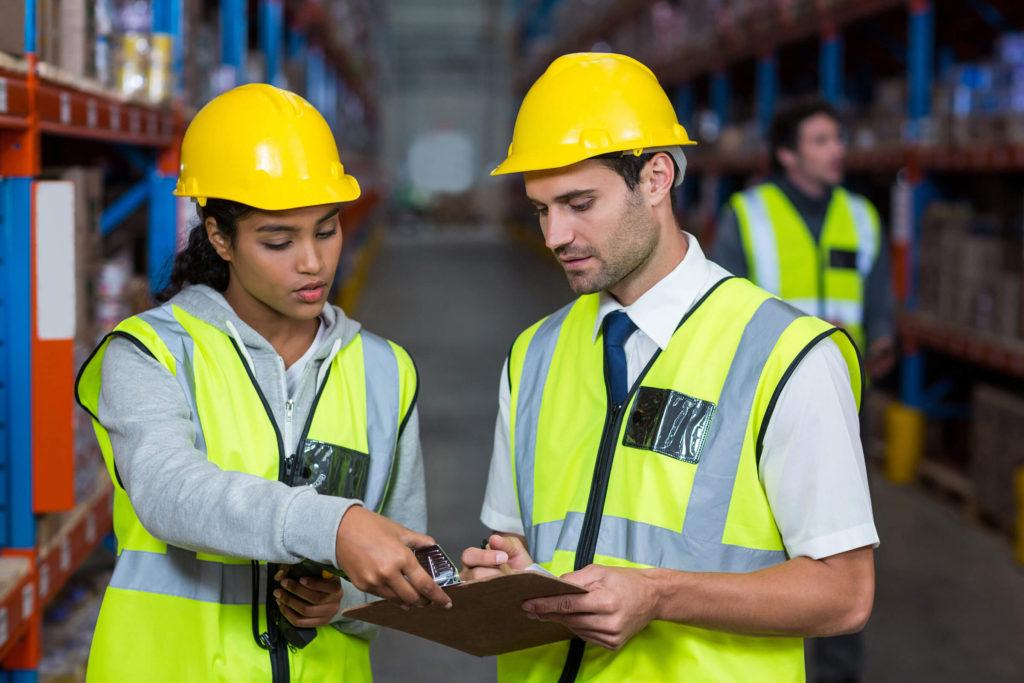helmet: (488, 46, 696, 186), (170, 81, 363, 216)
